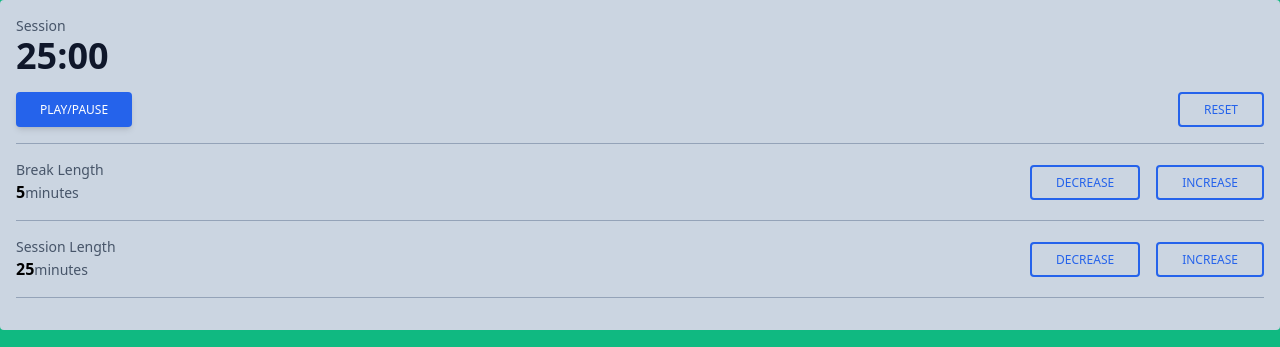
Test case: <TwentyFivePlusFiveClock /> › When I click the element with the id of session-decrement, the value within id="session-length" decrements by a value of 1, and I can see the updated value
Expected: the text with test id "session-length" shows "5", [16,258,34,280]
Click the button with test id "session-decrement" at (1085,259), box [1030,242,1140,276]
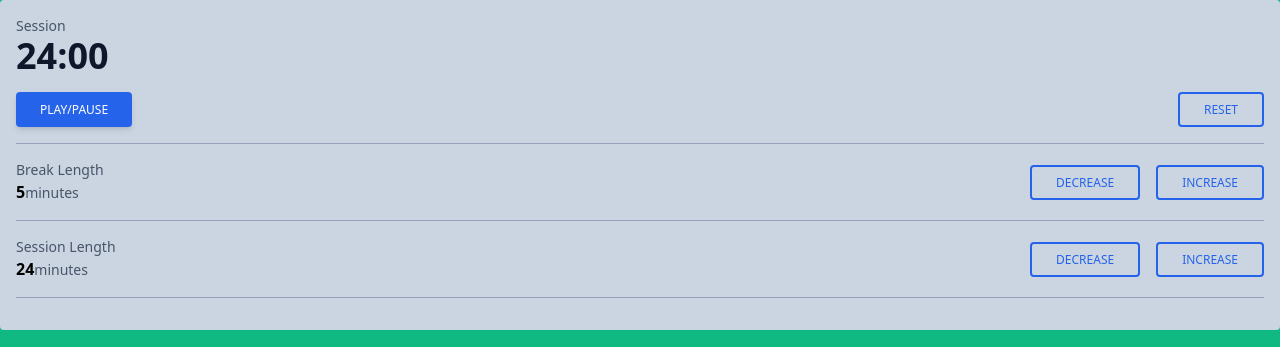
Result: the text with test id "session-length" reads "24" at [16,258,34,280]
